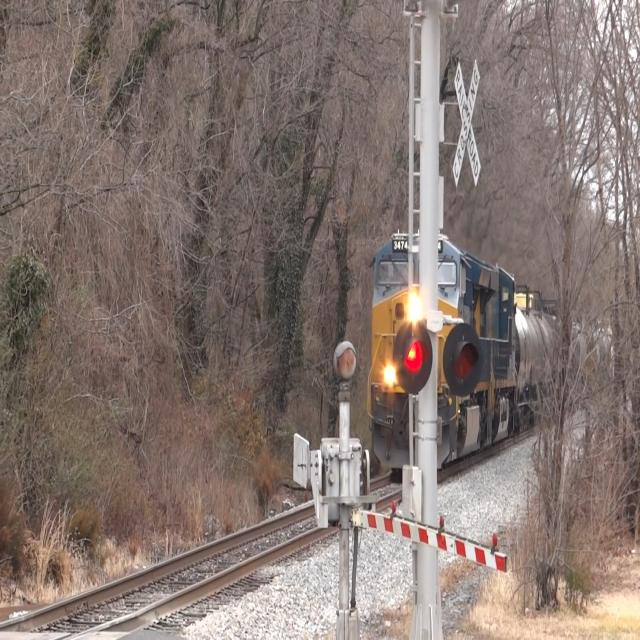locomotive: (366, 220, 519, 476)
